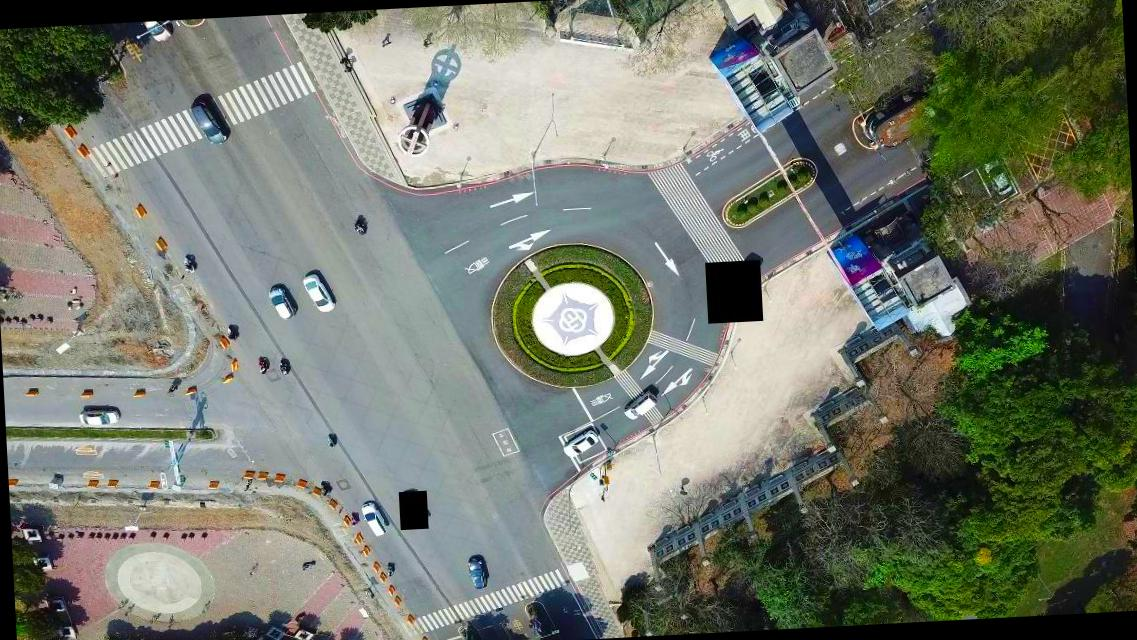vehicle: (189, 96, 229, 146), (301, 272, 335, 313), (982, 158, 1012, 197), (622, 390, 658, 422), (562, 430, 600, 458), (360, 501, 388, 538), (266, 286, 294, 321), (78, 406, 119, 426), (141, 20, 173, 45), (466, 558, 488, 590), (855, 0, 883, 15)
